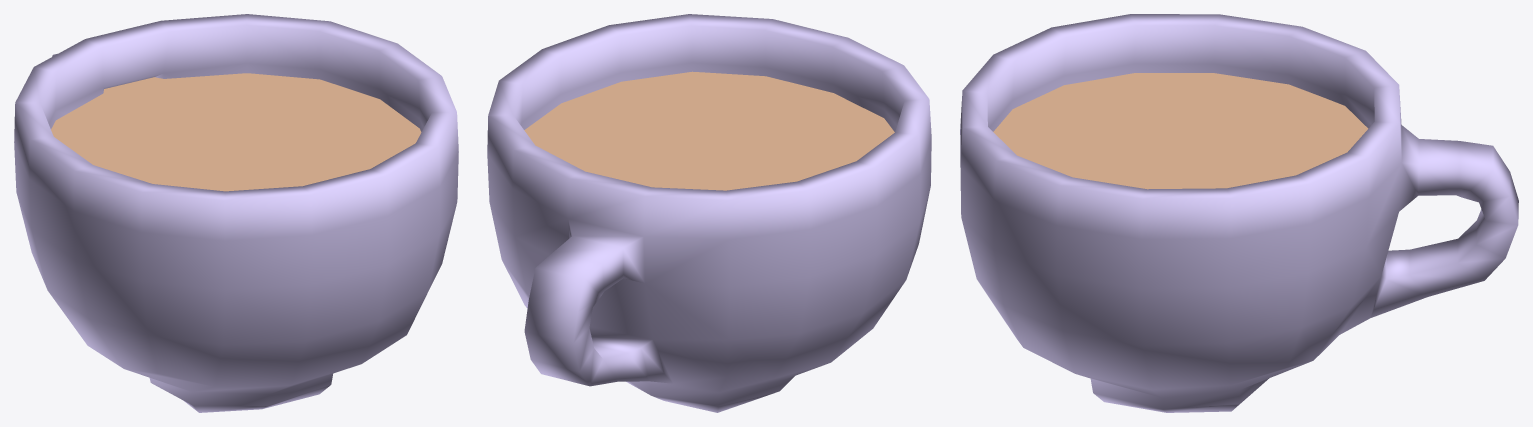
The model's file is kahve.fbx.
3 renders of one model, left to right at view 1: azimuth 30°, elevation 25°; view 2: azimuth 150°, elevation 25°; view 3: azimuth 270°, elevation 25°, orthographic.
Visible parts, largest first — view 1: kahve; view 2: kahve; view 3: kahve.
Part boxes in pixels (x1,y1,x2,y2): kahve: [14, 14, 458, 412]; kahve: [487, 14, 931, 412]; kahve: [960, 14, 1518, 412].
Size of the model in its own units: 17.26 by 12.2 by 21.93.
